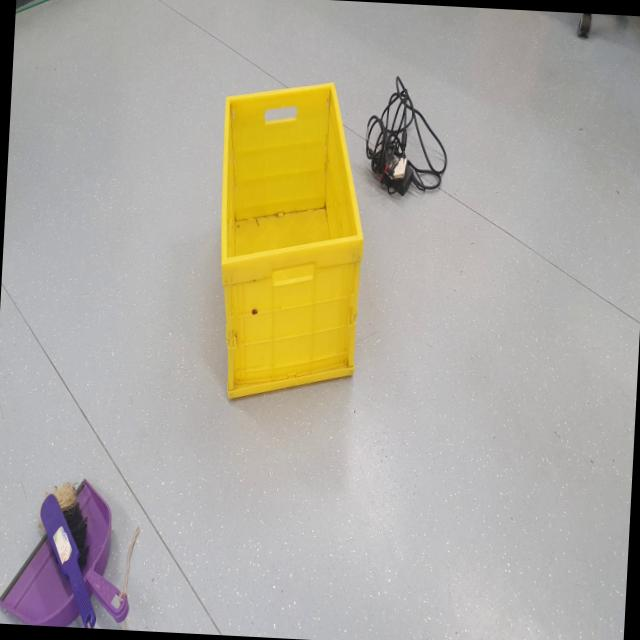box: (194, 53, 380, 434)
